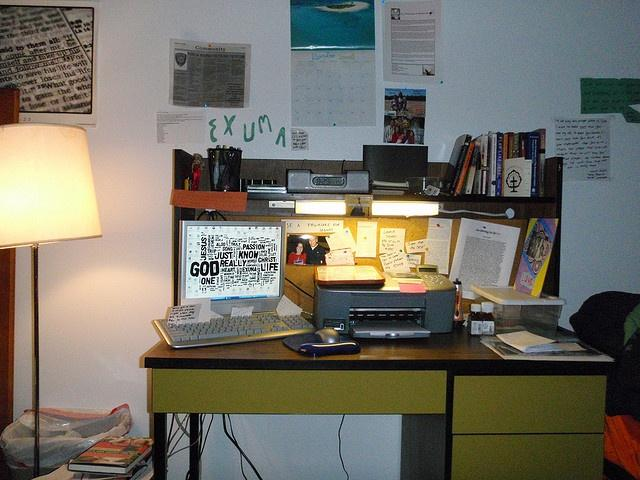AIO PC-Monitor-TV: (177, 219, 286, 315)
Printer: (312, 263, 456, 340)
